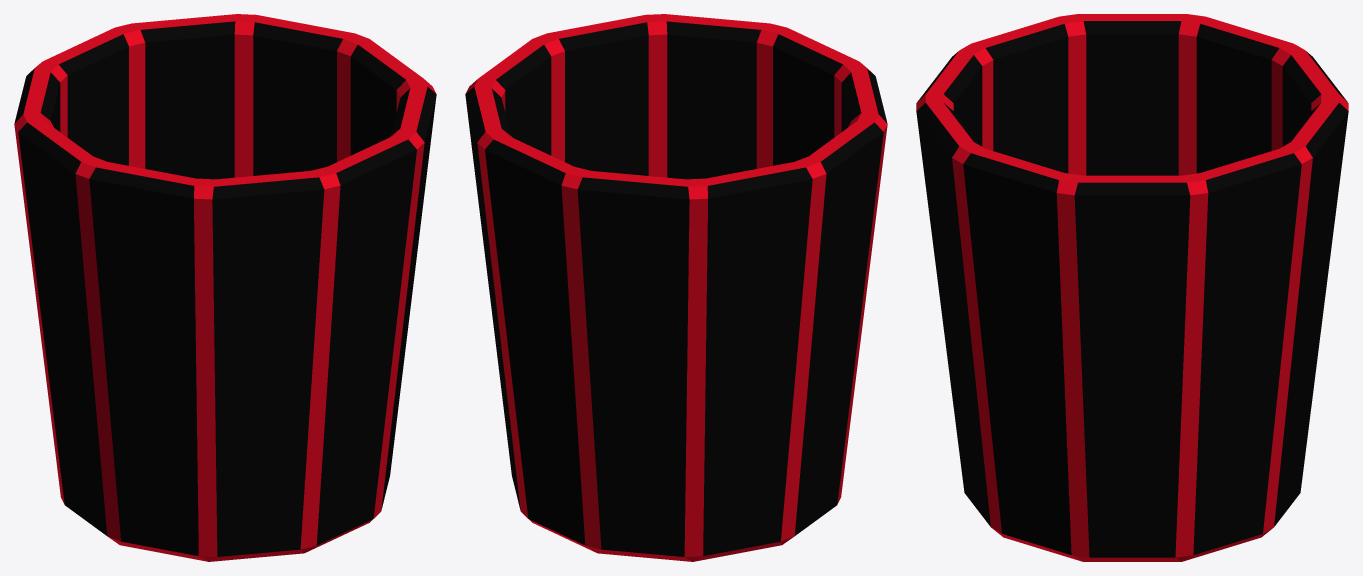
The model's file is TRASH NEON.fbx.
3 views of the same model, side by side, from view 1: azimuth 30°, elevation 25°; view 2: azimuth 150°, elevation 25°; view 3: azimuth 270°, elevation 25° (orthographic).
Parts seen in each view (by area): view 1: Cylinder; view 2: Cylinder; view 3: Cylinder.
Part boxes in pixels (<box>): Cylinder: <box>14,14,436,561</box>; Cylinder: <box>465,14,887,561</box>; Cylinder: <box>916,14,1348,561</box>.
Size of the model in its own units: 189 by 200 by 196.
